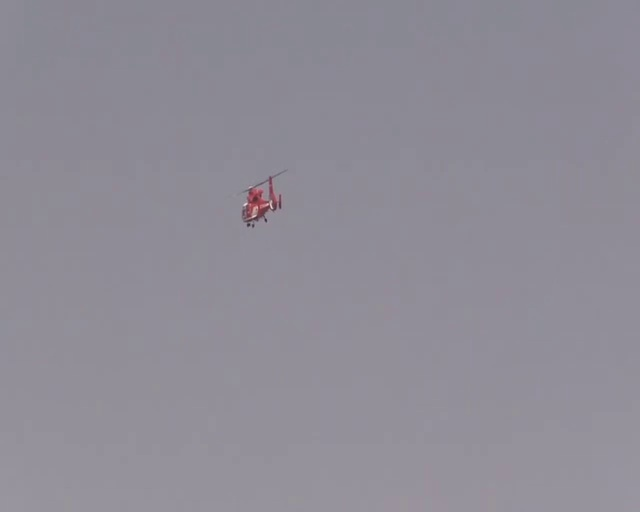HELICOPTER: (238, 168, 289, 228)
